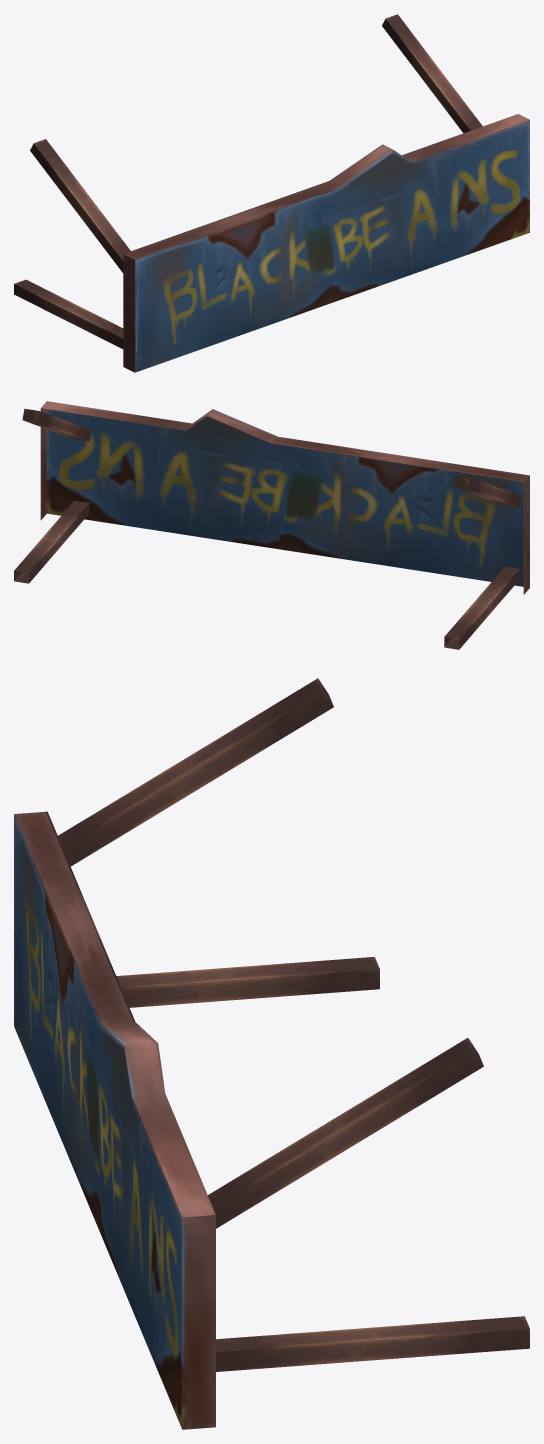
3 renders of one model, top to bottom at view 1: azimuth 30°, elevation 25°; view 2: azimuth 150°, elevation 25°; view 3: azimuth 270°, elevation 25°, orthographic. The views are drawn at different scales.
Parts seen in each view (by area): view 1: wj_objects_01_1; view 2: wj_objects_01_1; view 3: wj_objects_01_1.
Part boxes in pixels (x1,y1,x2,y2): wj_objects_01_1: (14, 14, 529, 372); wj_objects_01_1: (14, 401, 529, 649); wj_objects_01_1: (14, 678, 529, 1429).
Size of the model in its own units: 997 by 510 by 359.
